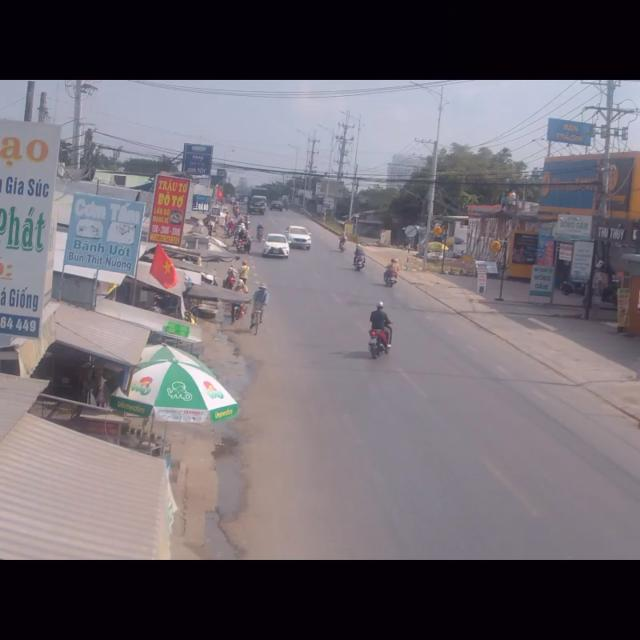motorbike: (366, 298, 393, 363), (383, 257, 398, 291), (352, 242, 366, 272)
